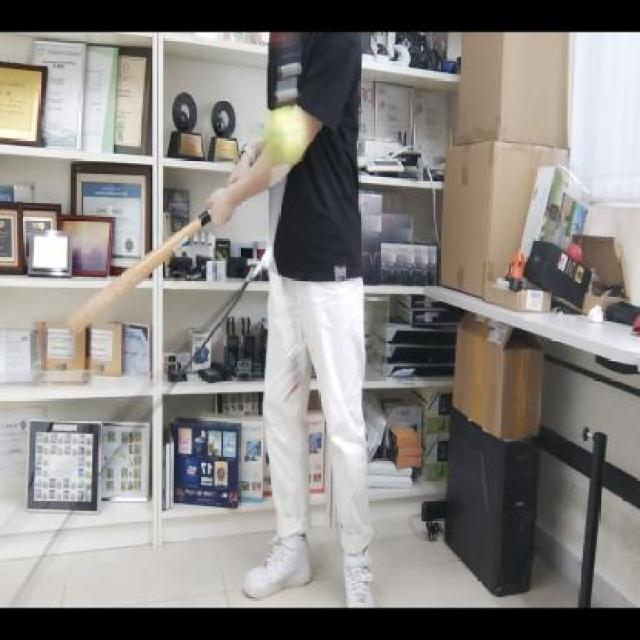baseball: (265, 103, 307, 171)
